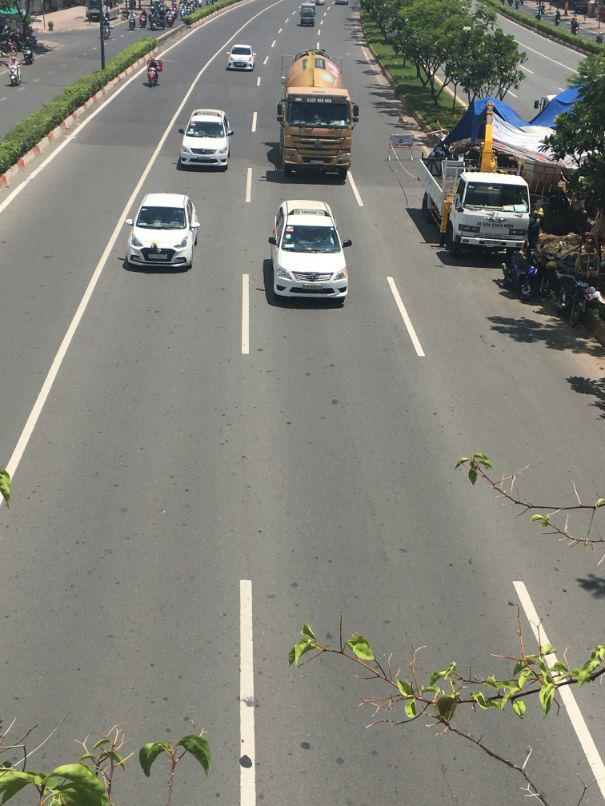car: (262, 198, 351, 308), (124, 194, 201, 274), (178, 110, 232, 174), (228, 45, 256, 72), (300, 5, 315, 27)
motorbike: (146, 60, 161, 85)
truck: (412, 148, 534, 256), (278, 49, 357, 181)
